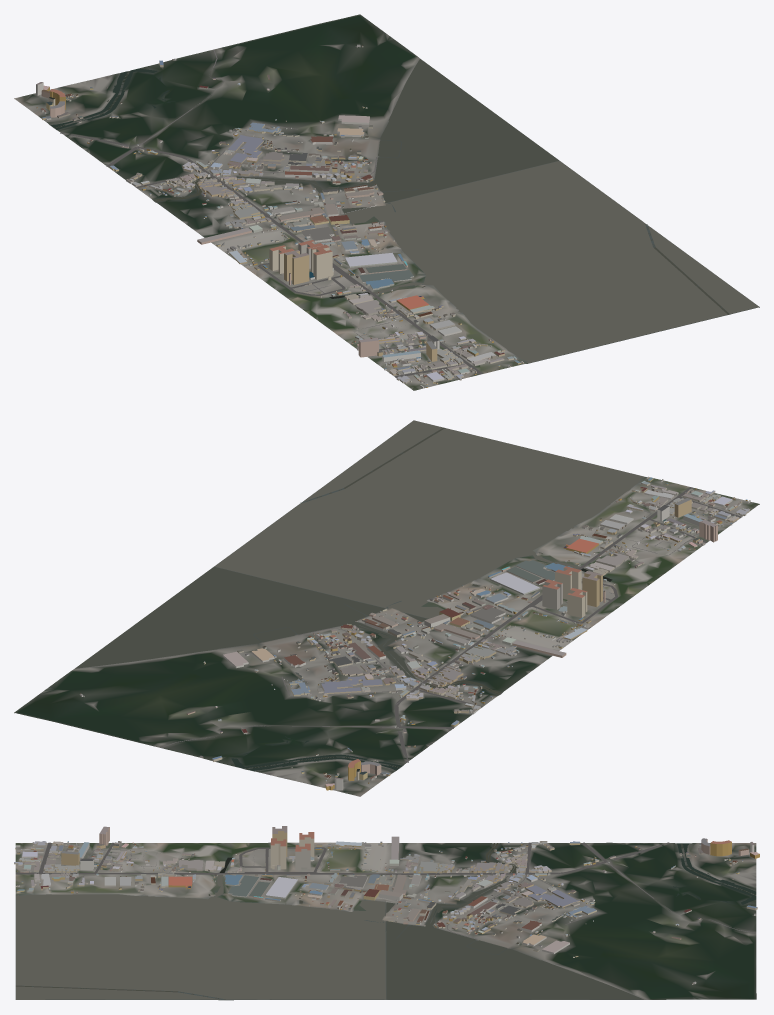
3 renders of one model, top to bottom at view 1: azimuth 30°, elevation 25°; view 2: azimuth 150°, elevation 25°; view 3: azimuth 270°, elevation 25°, orthographic. The views are drawn at different scales.
Parts seen in each view (by area): view 1: water, ground, buildings, roads; view 2: water, ground, buildings, roads; view 3: ground, water, buildings, roads.
Boxes of the visible parts, x1,y1,x2,y2 form: water: (45, 59, 758, 363); ground: (14, 14, 759, 390); buildings: (36, 44, 523, 388); roads: (60, 49, 482, 379); water: (75, 420, 644, 777); ground: (14, 420, 759, 796); buildings: (79, 476, 750, 790); roads: (160, 487, 741, 762); ground: (15, 842, 756, 1000); water: (15, 843, 756, 999); buildings: (14, 826, 759, 984); roads: (15, 842, 755, 939).
Bounding box in the file's own units: 1440 × 108 × 2820.
